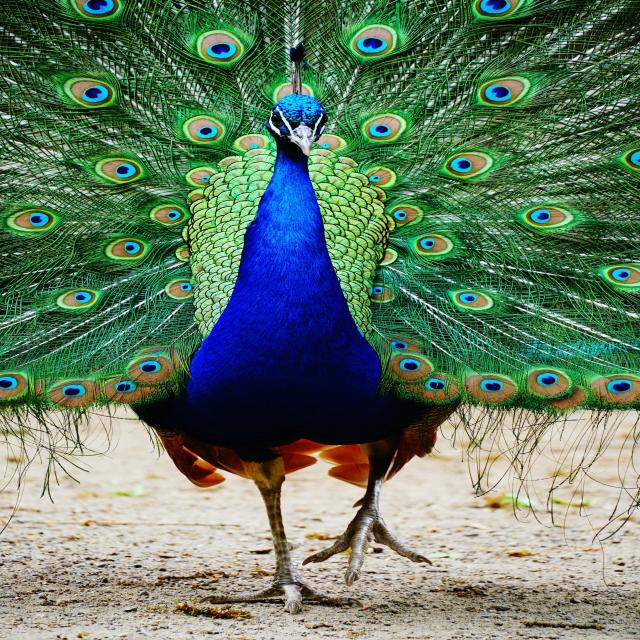peacock: (5, 0, 640, 640)
